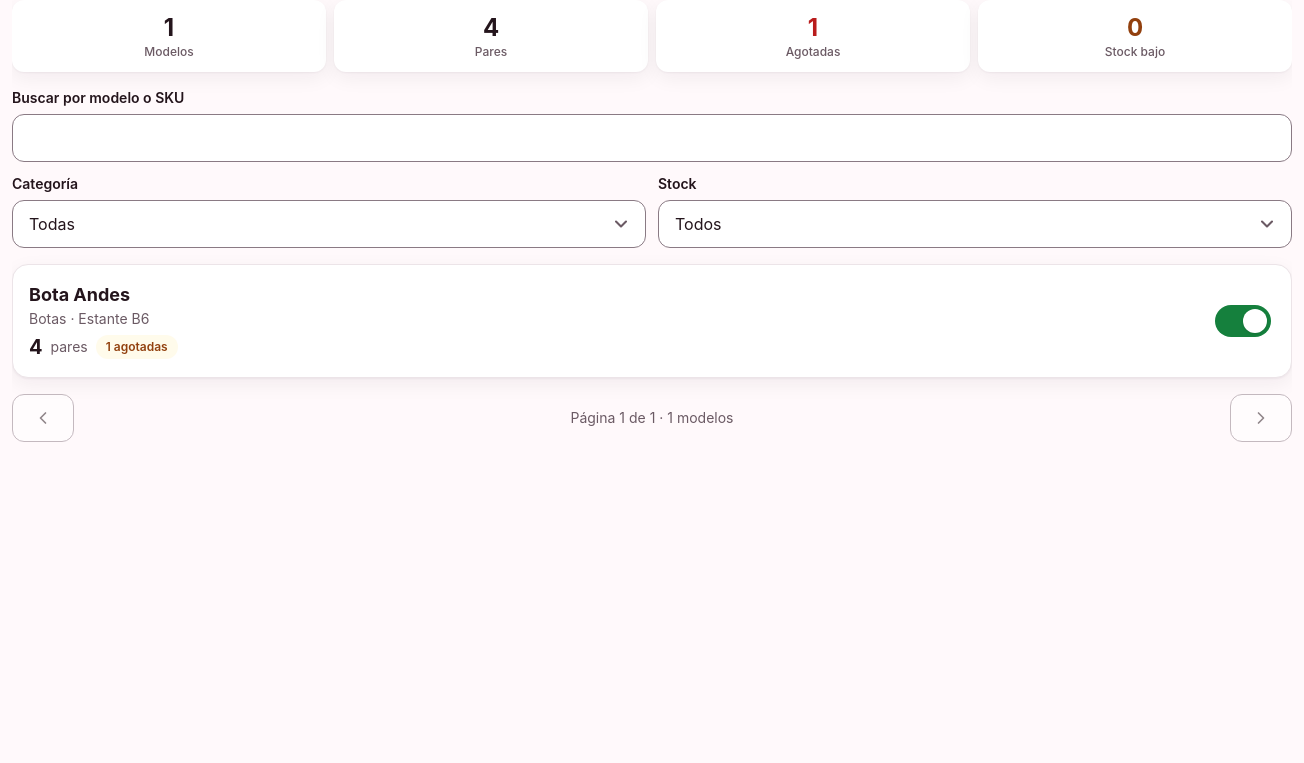
Inventario: matriz — muestra una celda por color y talla con su disponible
Click the button "Bota Andes Botas · Estante B6 4 pares 1 agotadas" at (80, 294), box [29, 273, 1203, 369]
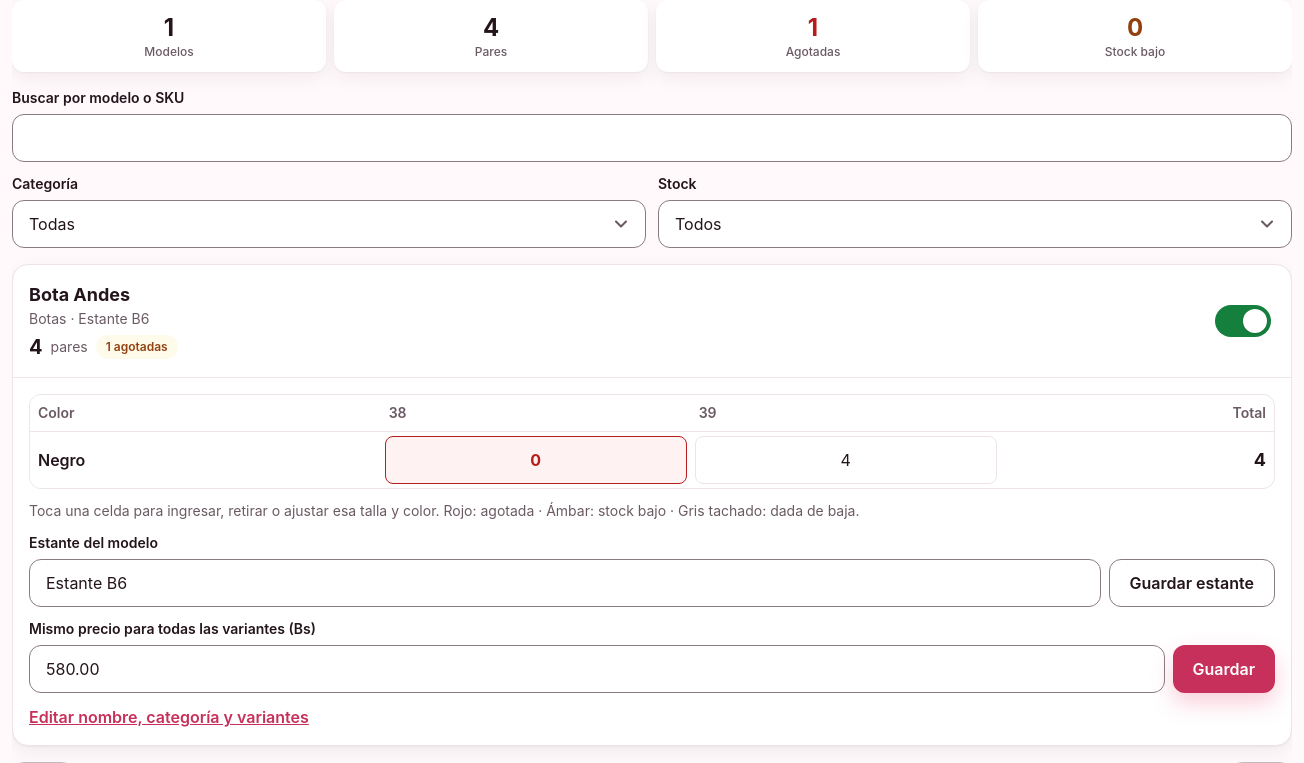
Result: the button named "Talla 39 Negro: 4 disponibles" is shown at [695, 436, 997, 484]
Result: the button named "Talla 38 Negro: 0 disponibles, agotada" is shown at [385, 436, 687, 484]
